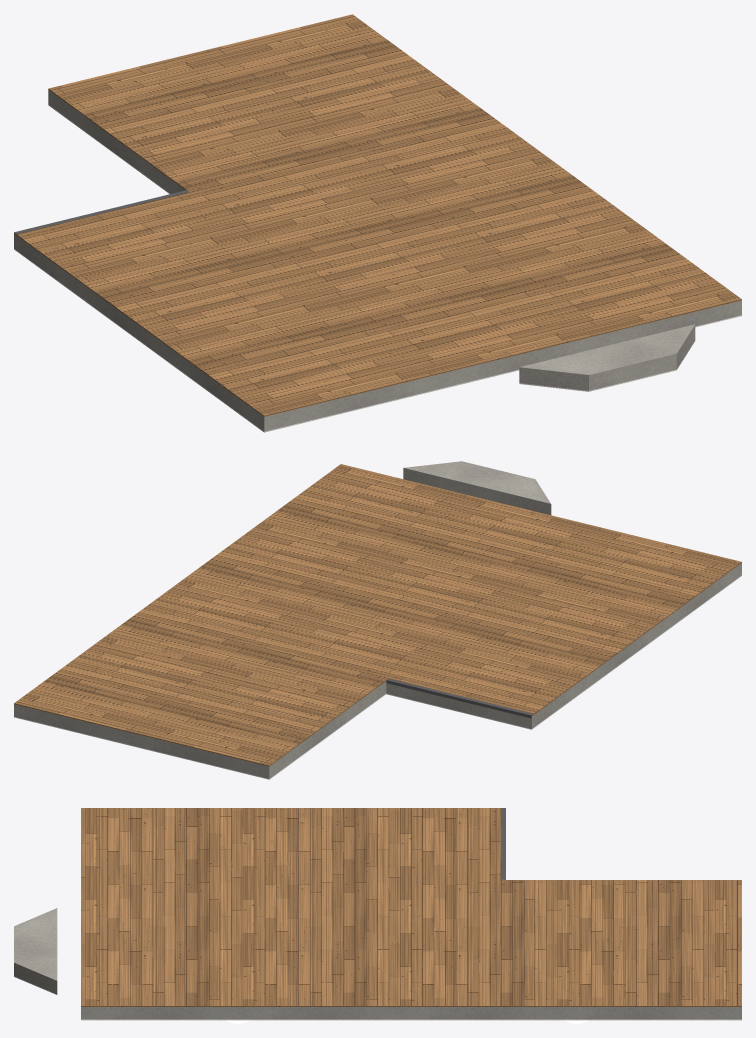
The model's file is slab_a_l.glb.
3 views of the same model, one above another, from view 1: azimuth 30°, elevation 25°; view 2: azimuth 150°, elevation 25°; view 3: azimuth 270°, elevation 25° (orthographic). The views are drawn at different scales.
Visible parts, largest first — view 1: slab_a_l_wood, slab_a_l_conc_s, slab_a_l_ceil; view 2: slab_a_l_wood, slab_a_l_conc_s, slab_a_l_ceil, slab_a_l_dark; view 3: slab_a_l_wood, slab_a_l_conc_s, slab_a_l_dkwood, slab_a_l_ceil.
Part boxes in pixels (left/top/right/bottom): slab_a_l_wood: left=14, top=14, right=741, bottom=416; slab_a_l_conc_s: left=14, top=90, right=741, bottom=431; slab_a_l_ceil: left=14, top=104, right=741, bottom=432; slab_a_l_wood: left=14, top=464, right=741, bottom=766; slab_a_l_conc_s: left=14, top=461, right=741, bottom=778; slab_a_l_ceil: left=14, top=575, right=741, bottom=779; slab_a_l_dark: left=386, top=678, right=532, bottom=718; slab_a_l_wood: left=81, top=808, right=741, bottom=1006; slab_a_l_conc_s: left=14, top=908, right=741, bottom=1019; slab_a_l_dkwood: left=99, top=808, right=737, bottom=1006; slab_a_l_ceil: left=14, top=976, right=741, bottom=1020.
Size of the model in its own units: 5.95 by 1.06 by 9.25.
8 materials, 4 textured.
